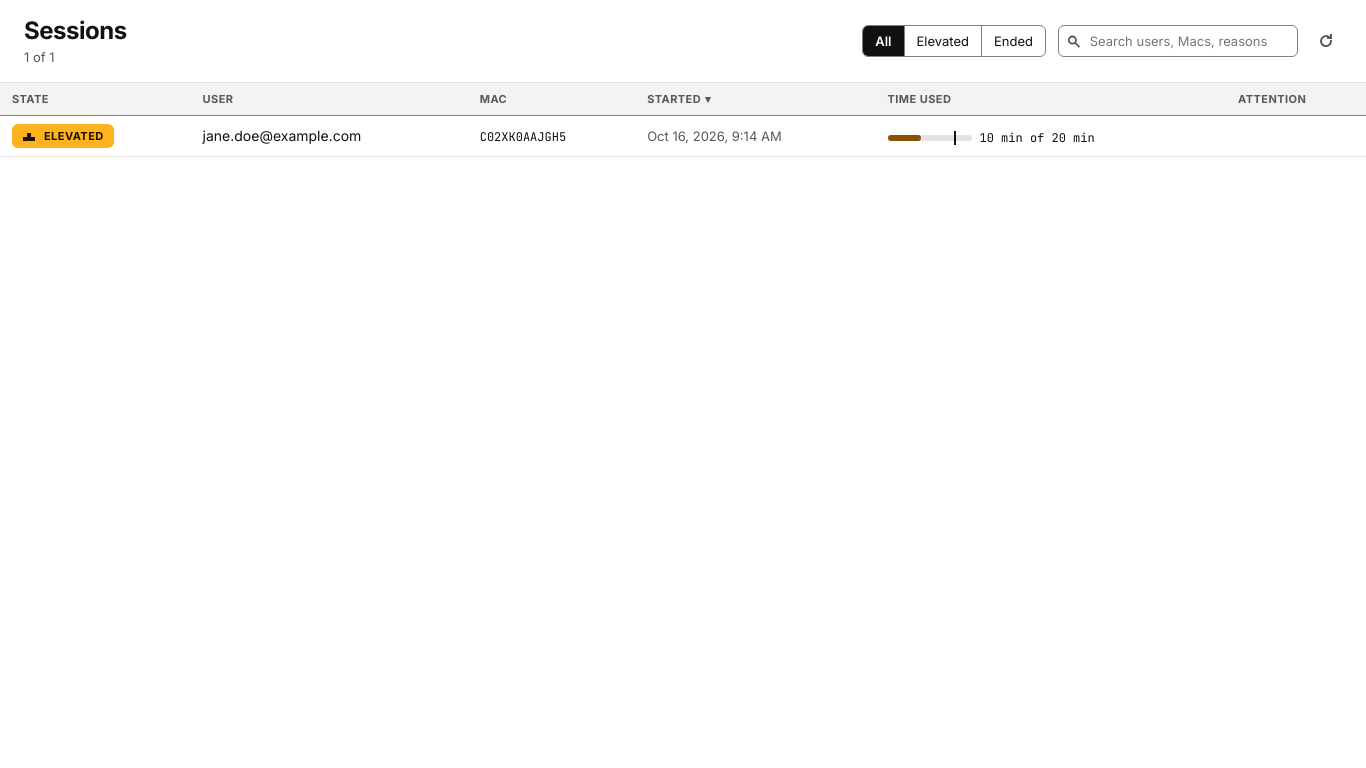
Test: Sessions › reports what the Mac did with the revoke ({"status":"failed","failed":[{"user":"jdoe","error":"still an admin"}]})
Click the text "jane.doe@example.com": (282, 136) [202,127,361,144]
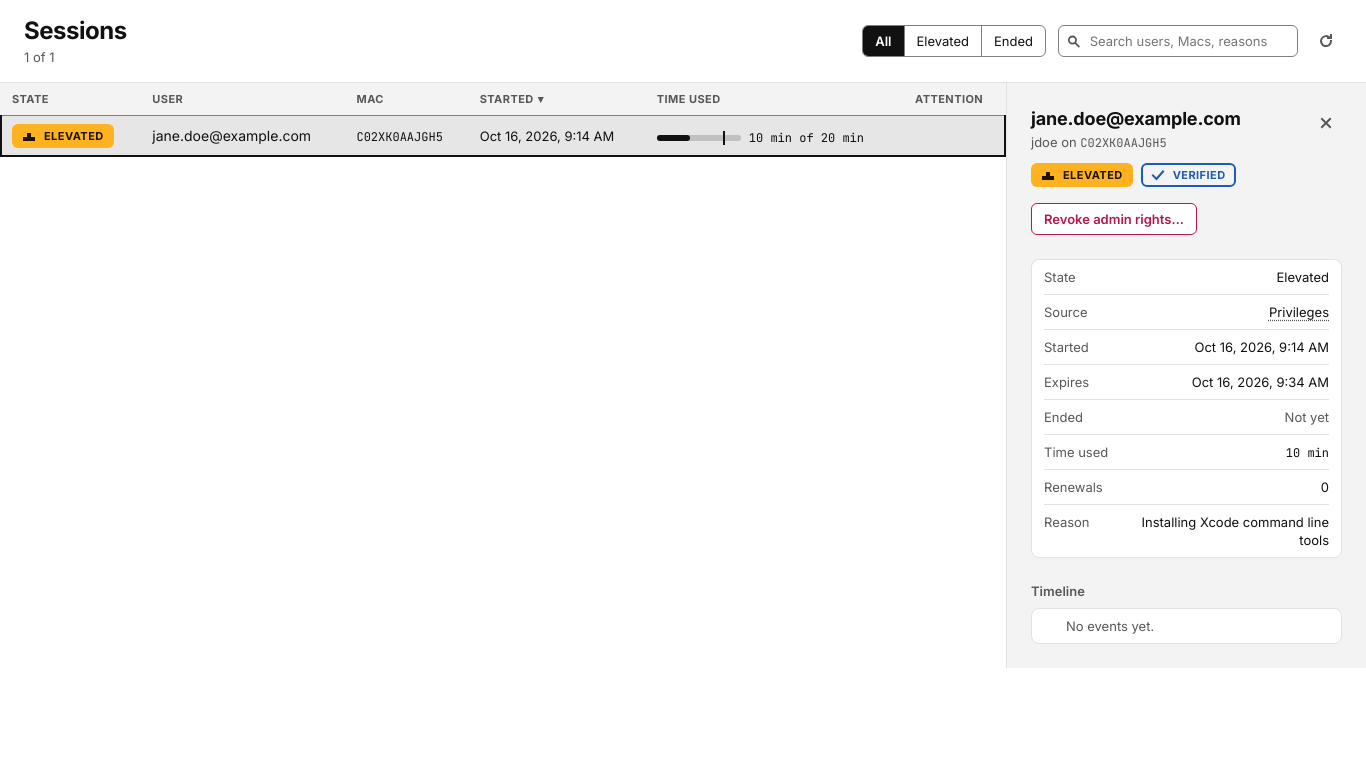
Click the button "Revoke admin rights…": (1114, 219) [1031,203,1197,235]
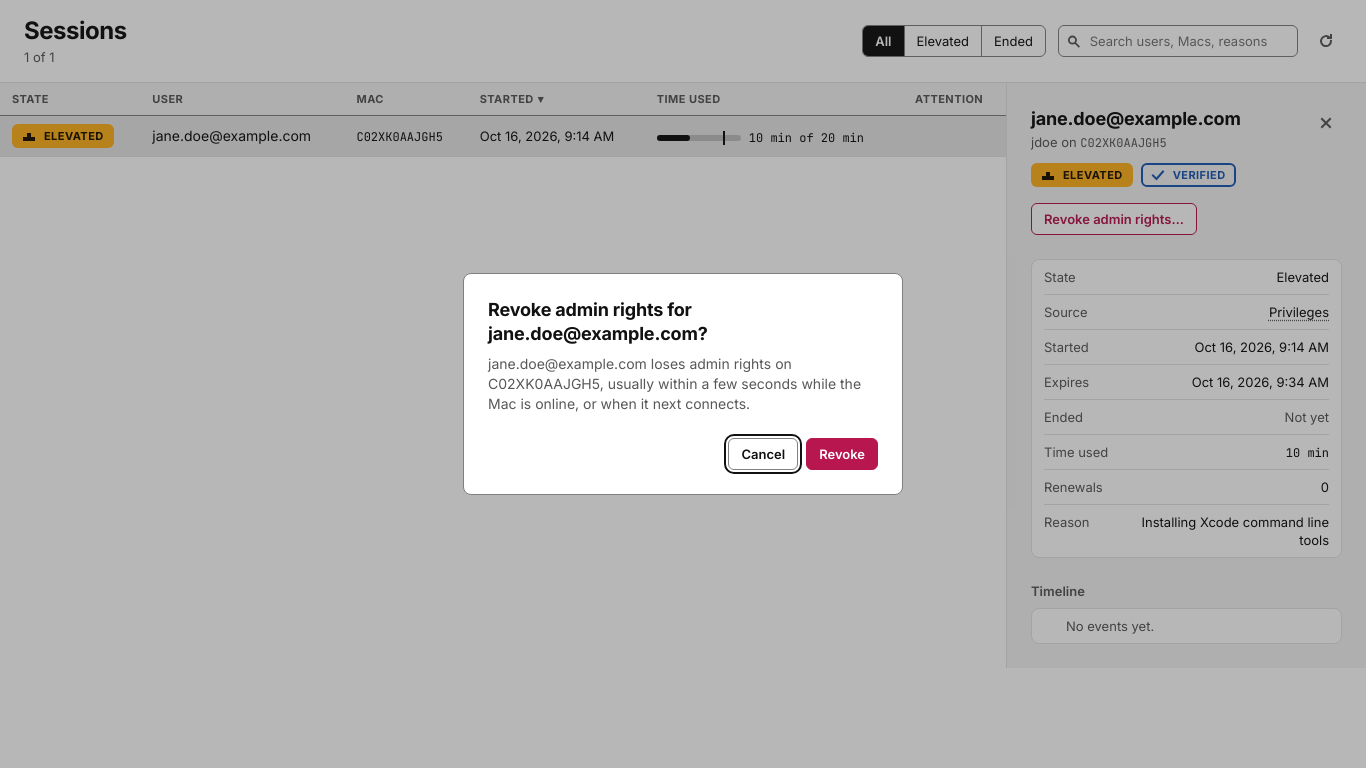
Click the button "Revoke": (842, 454) [806,438,878,470]
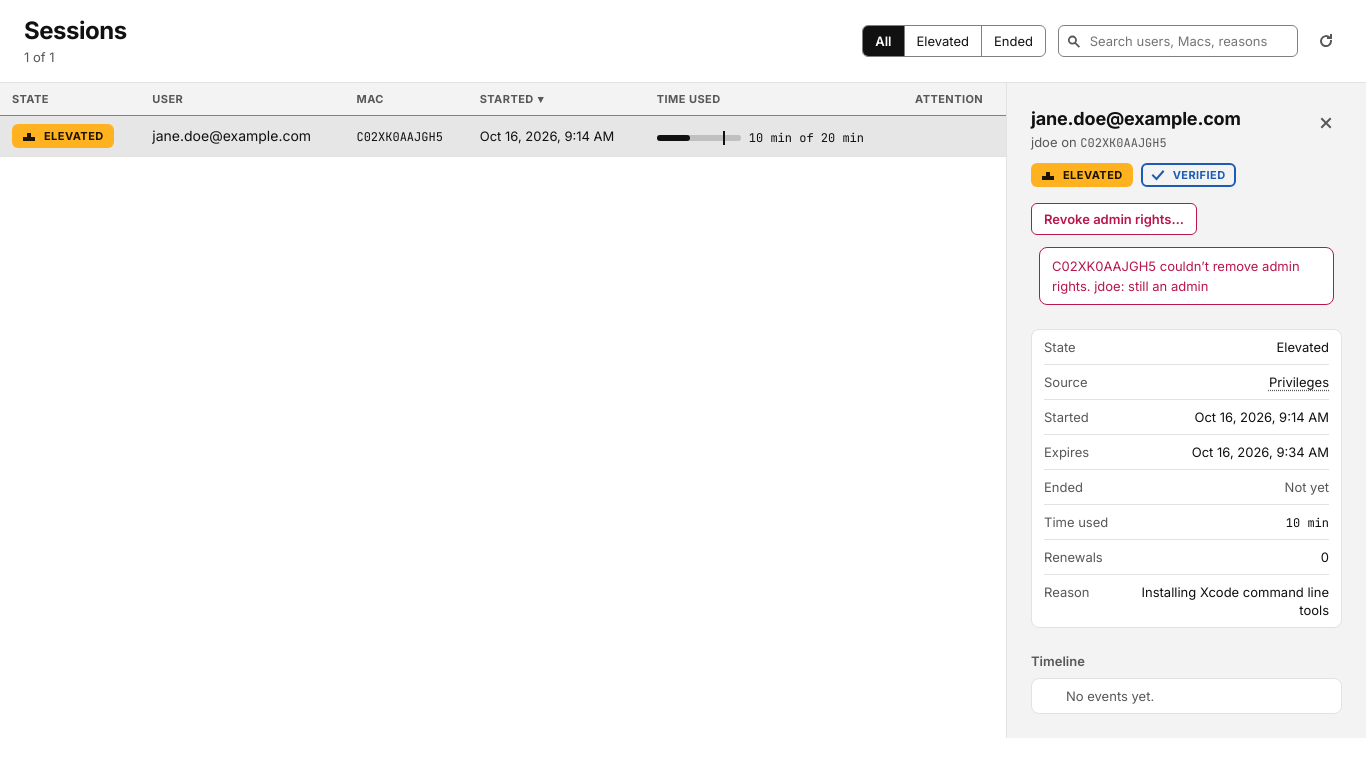
Expected: the message reads "C02XK0AAJGH5 couldn’t remove admin rights. jdoe: still an admin", [1052,258,1300,294]
